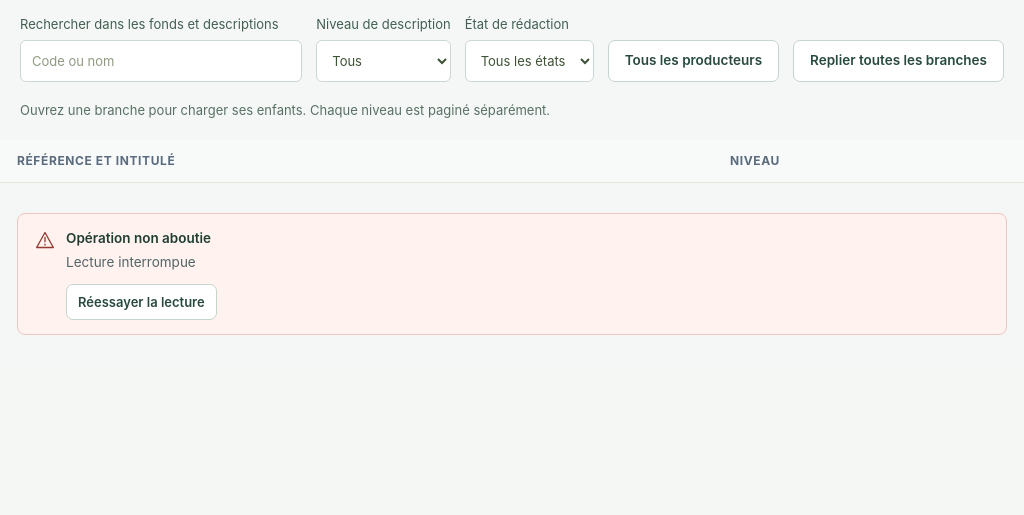
Test: permet de réessayer une erreur puis affiche un résultat vide
Expected: the text "Lecture interrompue" is shown, [66,250,217,274]
What coordinates should you click on to do the following:
click the button "Réessayer la lecture"
I would click on:
 (141, 302)
Its box is [66,284,217,320].
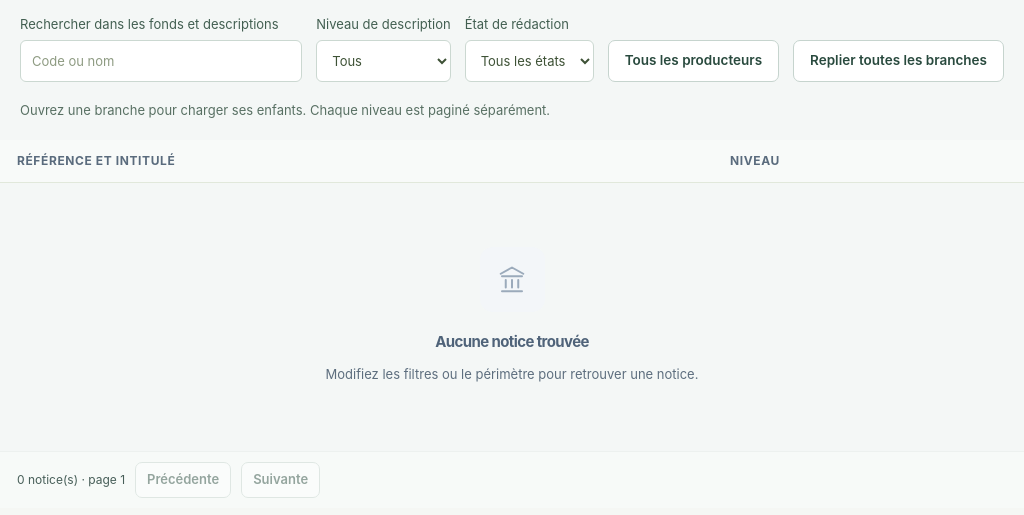
Now the heading "Aucune notice trouvée" is shown, box [435,332,589,351]
Now the button with aria-label "Page suivante pour fonds et descriptions" is disabled, box [241,462,320,498]
